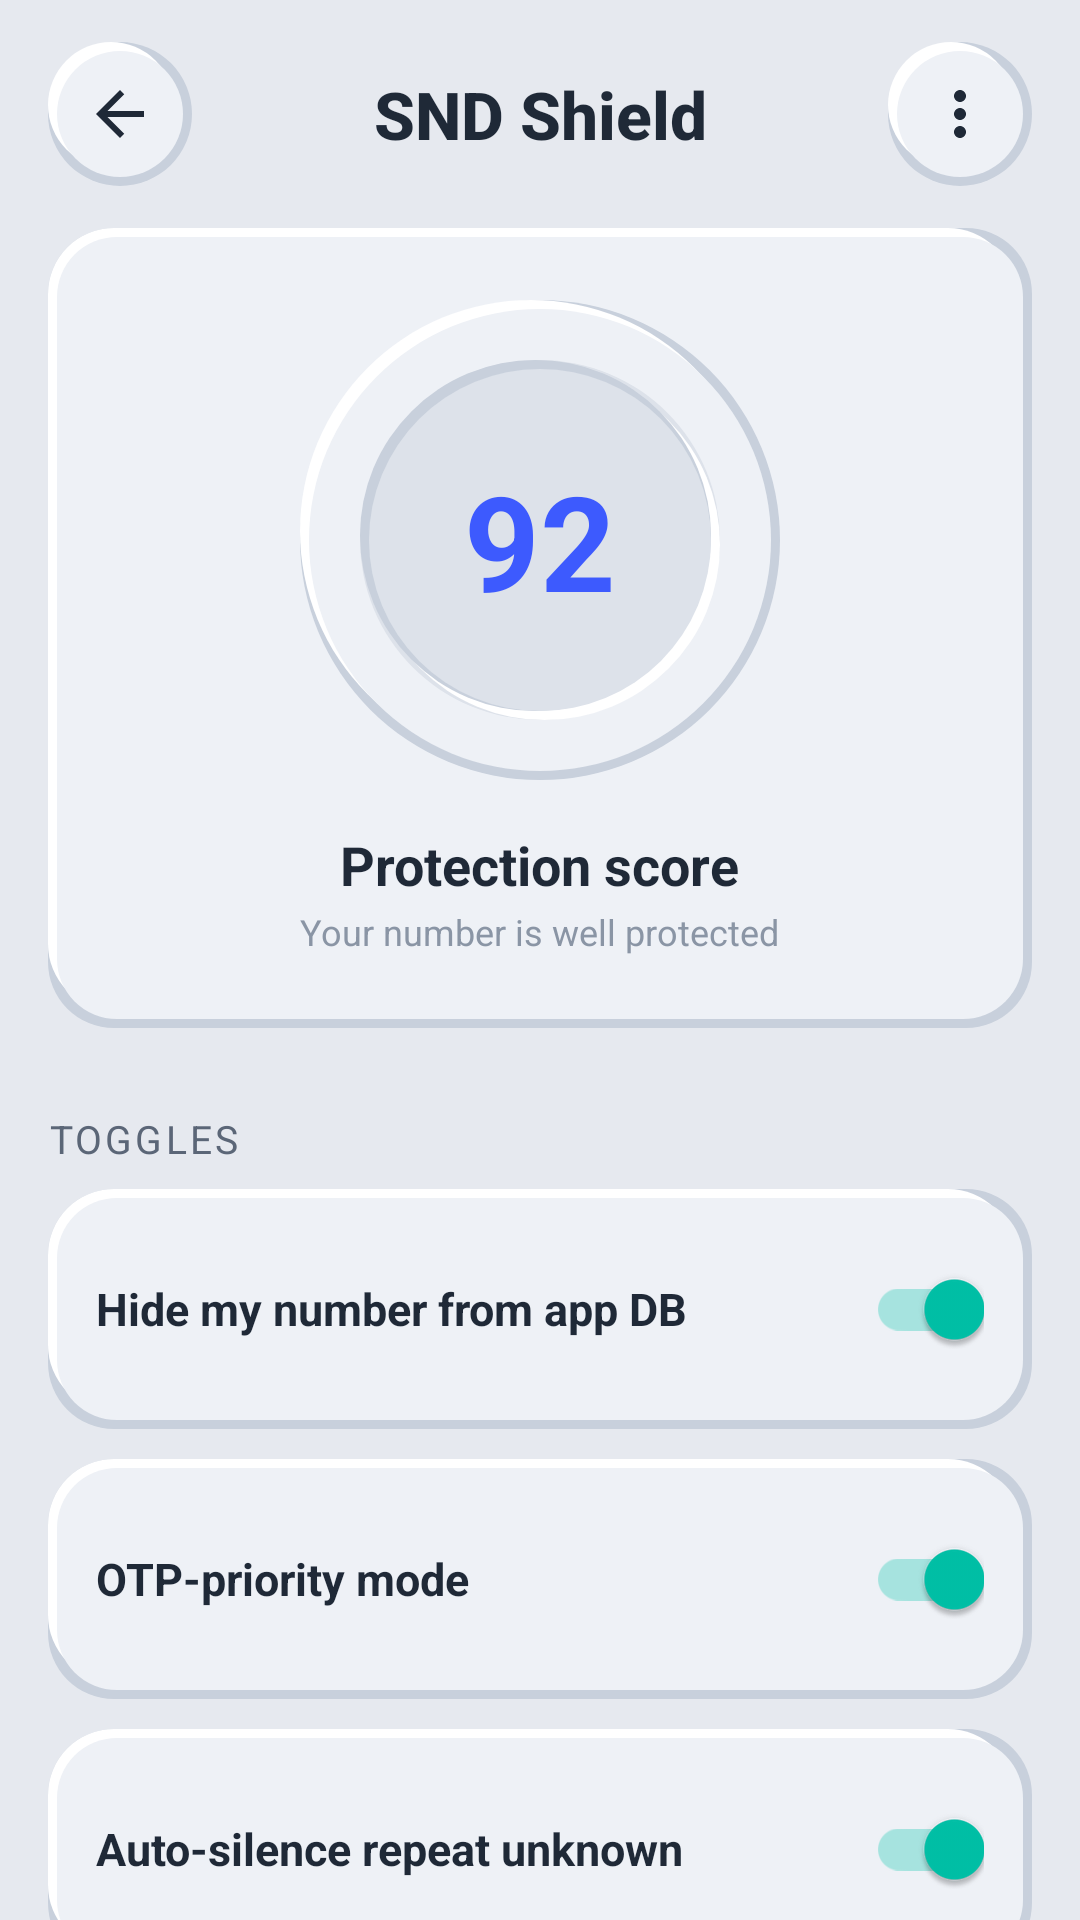

Screen size 1080×1920. Icon name, then its box in pixels as (x1, y1, x2, y2):
Back: (48, 42, 192, 186)
